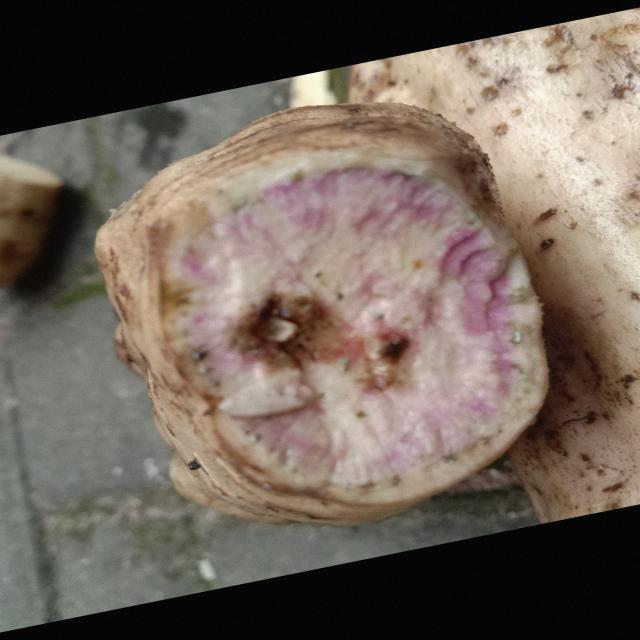Sick Sweet Potato_Tuber Rot: (112, 151, 547, 524)
